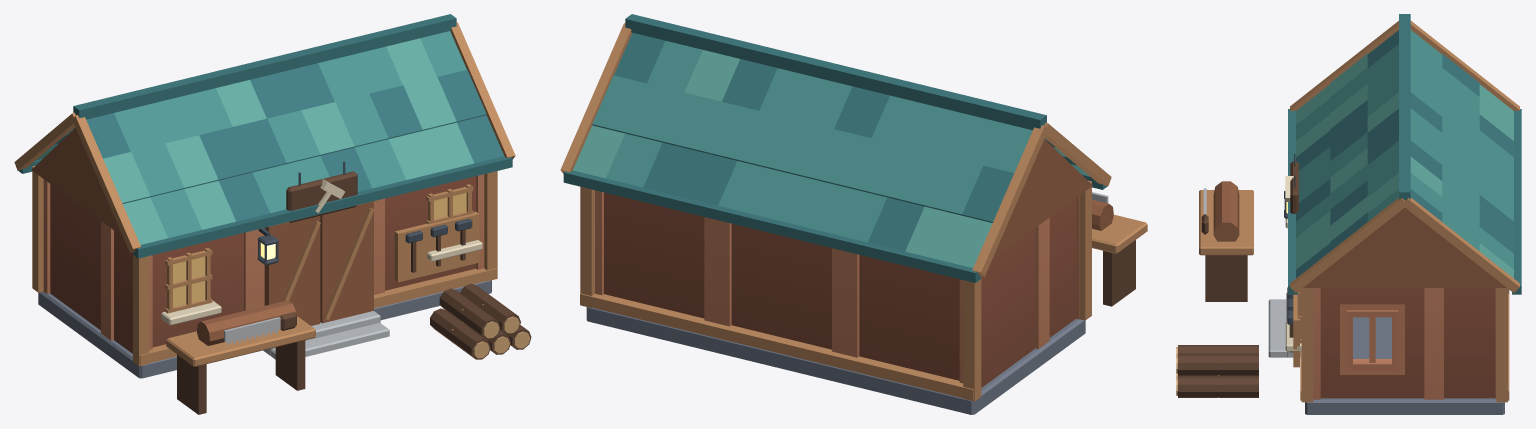
The model's file is carpenter_shop.glb.
3 renders of one model, left to right at view 1: azimuth 30°, elevation 25°; view 2: azimuth 150°, elevation 25°; view 3: azimuth 270°, elevation 25°, orthographic. The views are drawn at different scales.
Visible parts, largest first — view 1: carpenter_shop_建筑共用调色板.034, carpenter_shop_fantasy-town-kit 调色板; view 2: carpenter_shop_建筑共用调色板.034, carpenter_shop_fantasy-town-kit 调色板; view 3: carpenter_shop_建筑共用调色板.034, carpenter_shop_fantasy-town-kit 调色板.
Boxes of the visible parts, box(x1,y1,x2,y2) form: carpenter_shop_建筑共用调色板.034: box(14, 14, 531, 414); carpenter_shop_fantasy-town-kit 调色板: box(43, 174, 484, 353); carpenter_shop_建筑共用调色板.034: box(560, 14, 1147, 414); carpenter_shop_fantasy-town-kit 调色板: box(595, 190, 1079, 387); carpenter_shop_建筑共用调色板.034: box(1176, 14, 1521, 414); carpenter_shop_fantasy-town-kit 调色板: box(1313, 288, 1496, 399).
Bounding box in the file's own units: 6.59 × 3.88 × 5.33.
Materials: 3 (2 with a texture image).
